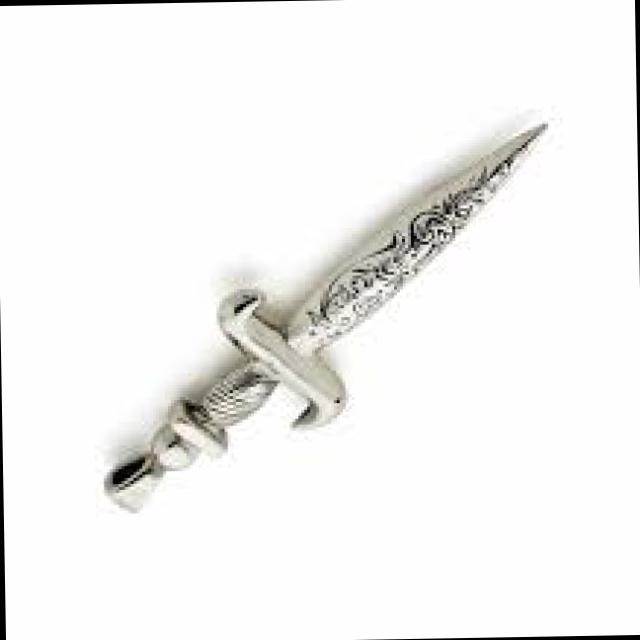Gun: (94, 106, 558, 516)
